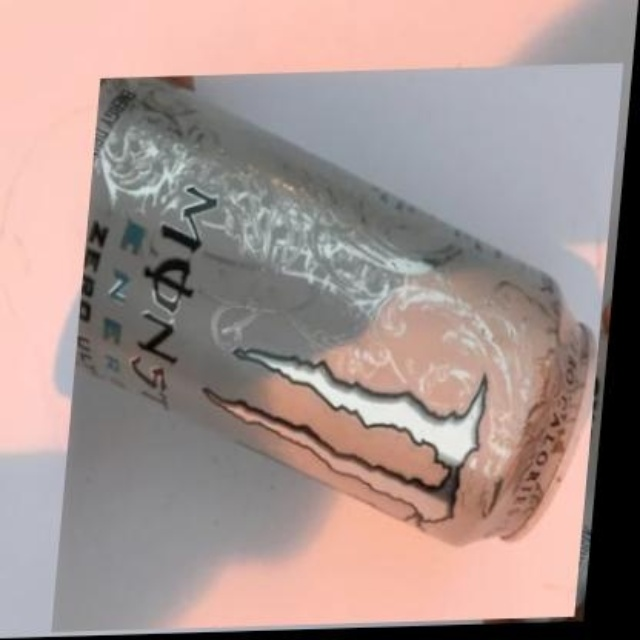trash: (77, 77, 591, 543)
